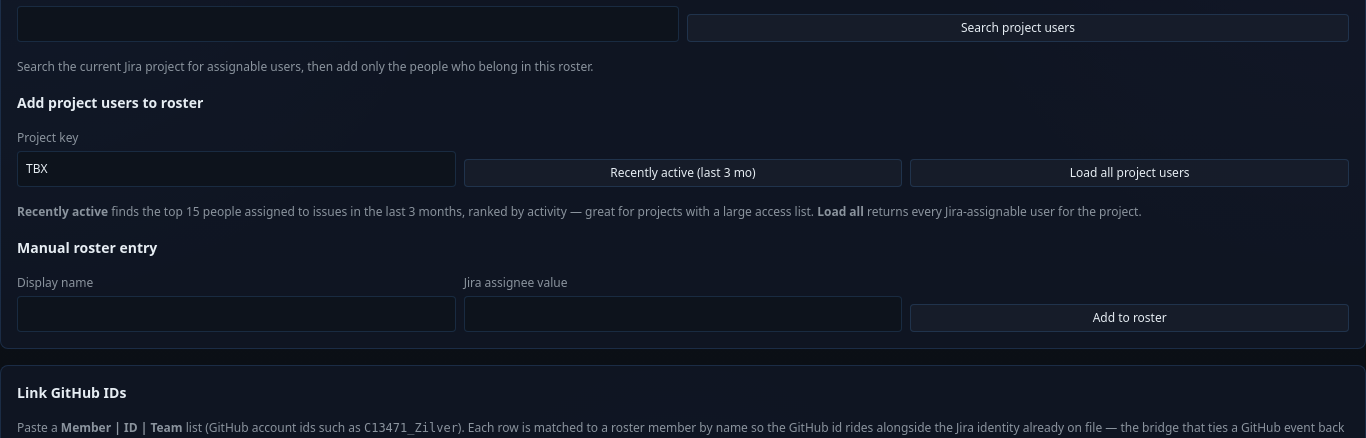
Test: RosterTab › supports manual roster entries and removal
The width and height of the screenshot is (1366, 438).
Type "Taylor Teammate" into the field labelled "Display name".
click(236, 314); type("Taylor Teammate")  # box [17,296,456,332]
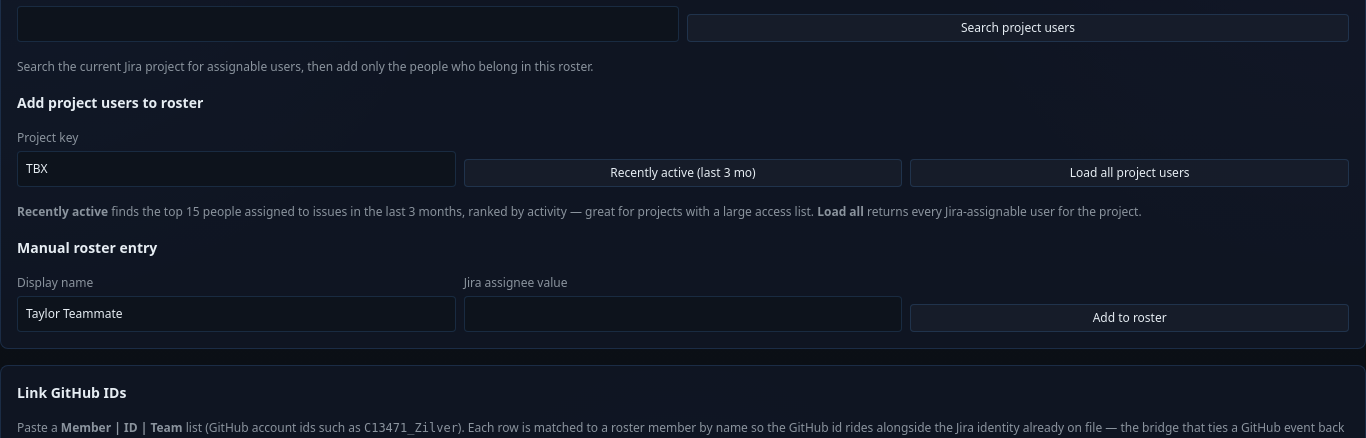
Type "Taylor Teammate" into the field labelled "Jira assignee value".
click(683, 314); type("Taylor Teammate")  # box [464,296,902,332]
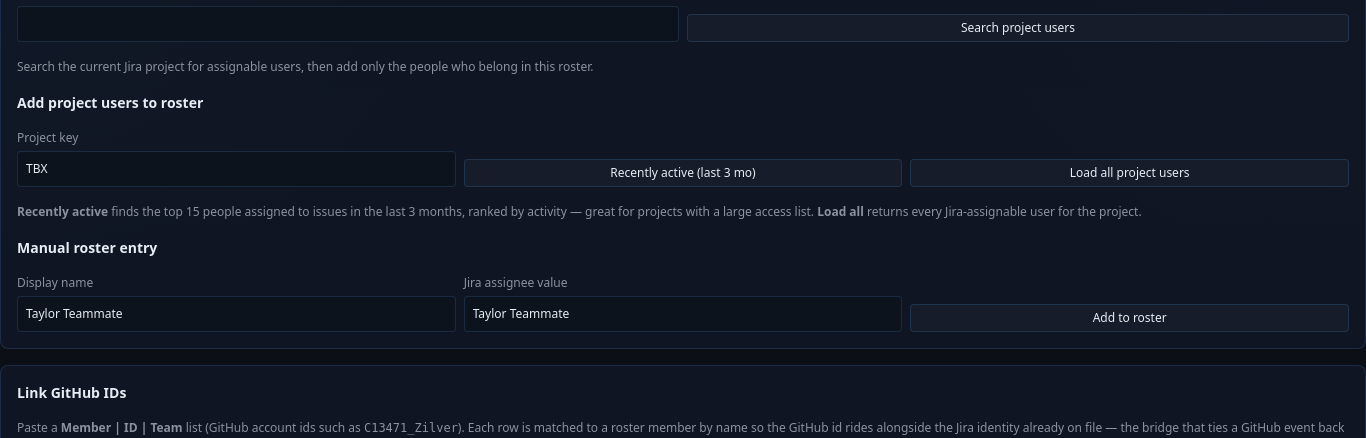
Click the button "Add to roster".
click(1130, 318)  # box [910,304,1349,332]
(page scrolled)
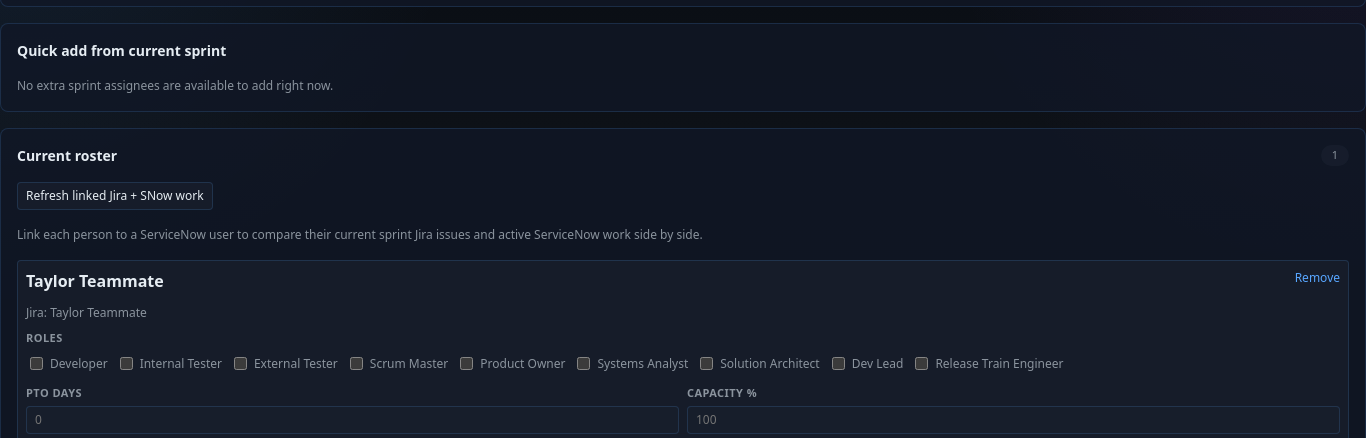
Now the text "Taylor Teammate" is shown, box [26,270,164,292]
Click the button with aria-label "Remove Taylor Teammate".
click(1317, 278)  # box [1295,269,1340,287]
(page scrolled)
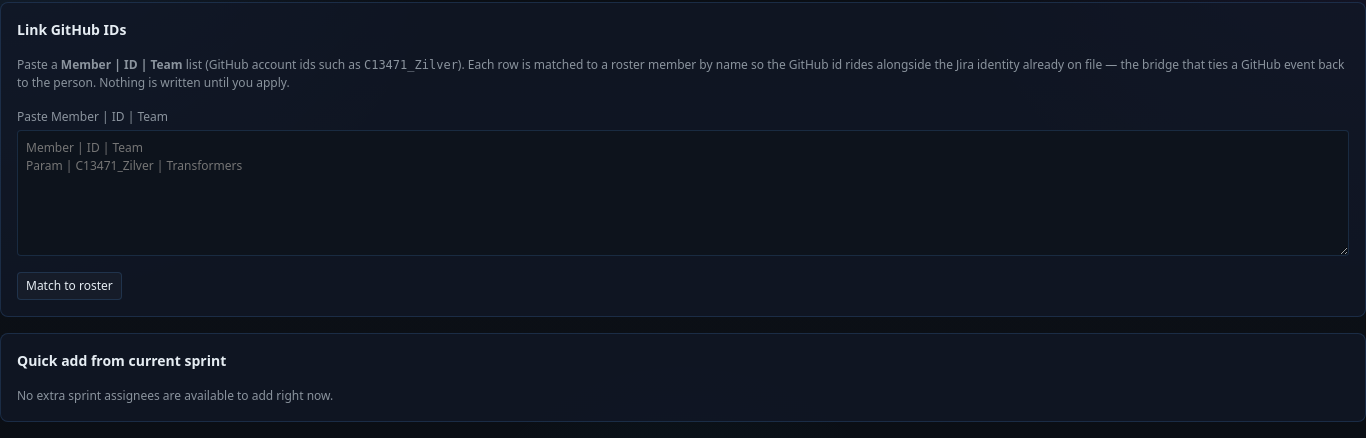
Now the text "Taylor Teammate" is gone
